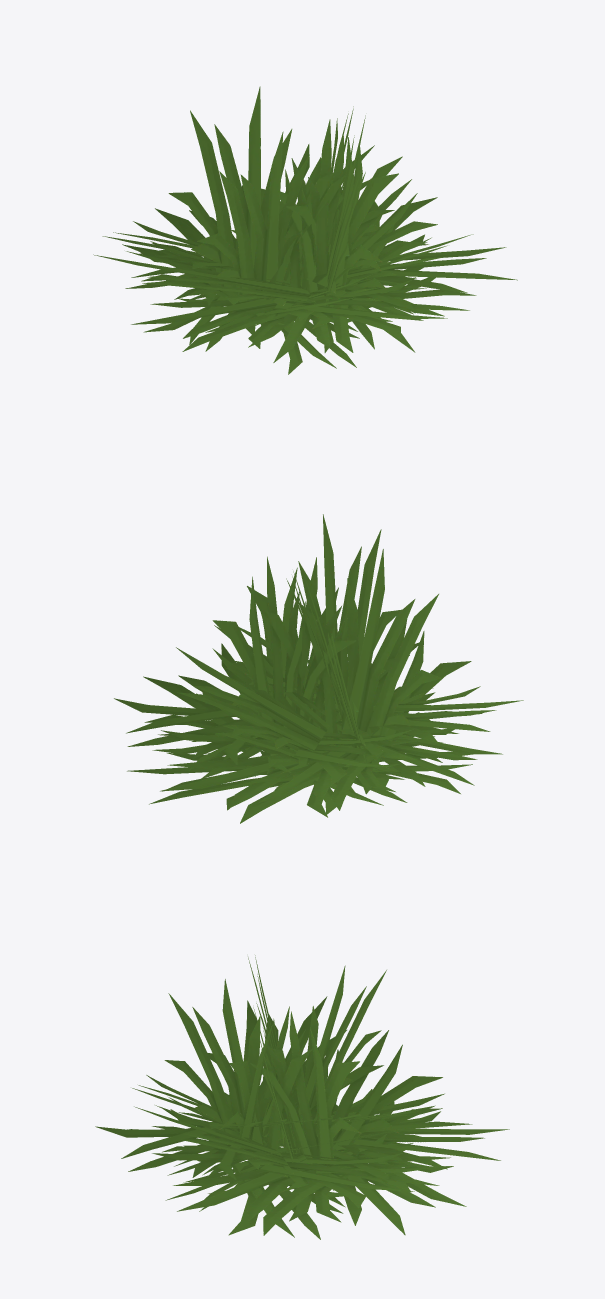
The model's file is fm_fern_frosted.glb.
The picture shows the model from 3 angles, top to bottom: view 1: azimuth 30°, elevation 25°; view 2: azimuth 150°, elevation 25°; view 3: azimuth 270°, elevation 25°; orthographic projection. The views are drawn at different scales.
Visible parts, largest first — view 1: SM_Env_Grass_Bush_01_LOD1; view 2: SM_Env_Grass_Bush_01_LOD1; view 3: SM_Env_Grass_Bush_01_LOD1.
Part boxes in pixels (x1,y1,x2,y2): SM_Env_Grass_Bush_01_LOD1: (93, 86, 517, 374); SM_Env_Grass_Bush_01_LOD1: (114, 514, 523, 823); SM_Env_Grass_Bush_01_LOD1: (95, 955, 509, 1239).
Size of the model in its own units: 1.57 by 0.8274 by 1.59.
1 material, 1 textured.
